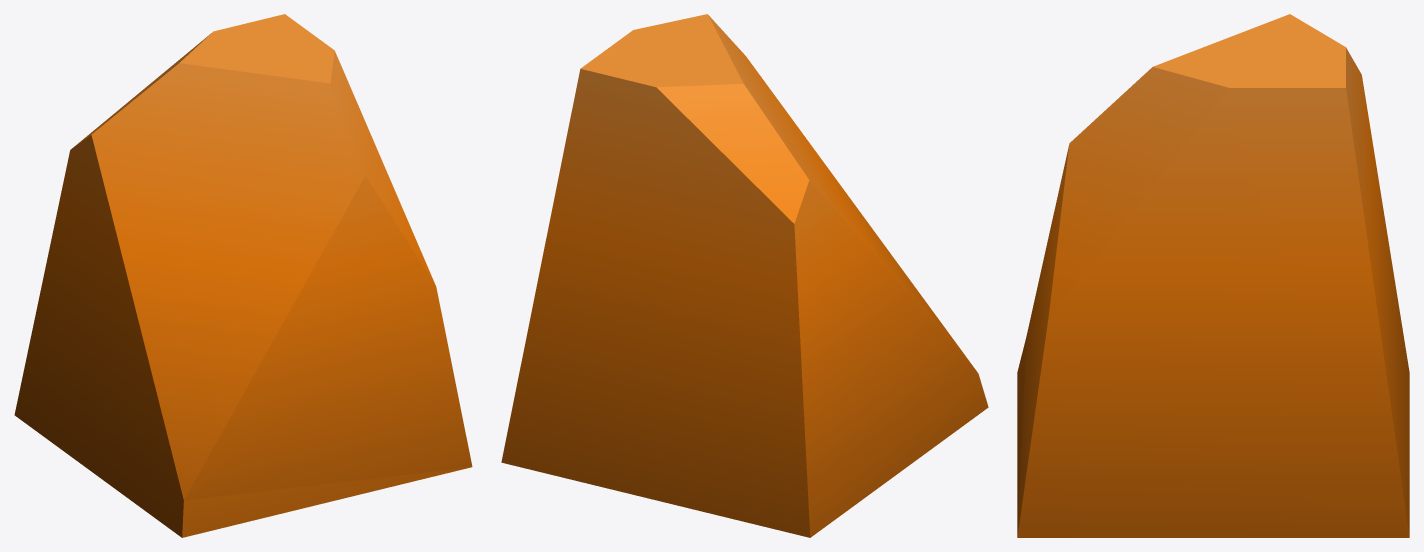
The model's file is Rock_B_02.fbx.
3 views of the same model, side by side, from view 1: azimuth 30°, elevation 25°; view 2: azimuth 150°, elevation 25°; view 3: azimuth 270°, elevation 25° (orthographic). The views are drawn at different scales.
Parts seen in each view (by area): view 1: Rock_B_02; view 2: Rock_B_02; view 3: Rock_B_02.
Part boxes in pixels (left/top/right/bottom): Rock_B_02: left=14, top=14, right=472, bottom=537; Rock_B_02: left=501, top=14, right=988, bottom=537; Rock_B_02: left=1017, top=14, right=1409, bottom=537.
Bounding box in the file's own units: 57.29 × 68.21 × 57.29.
